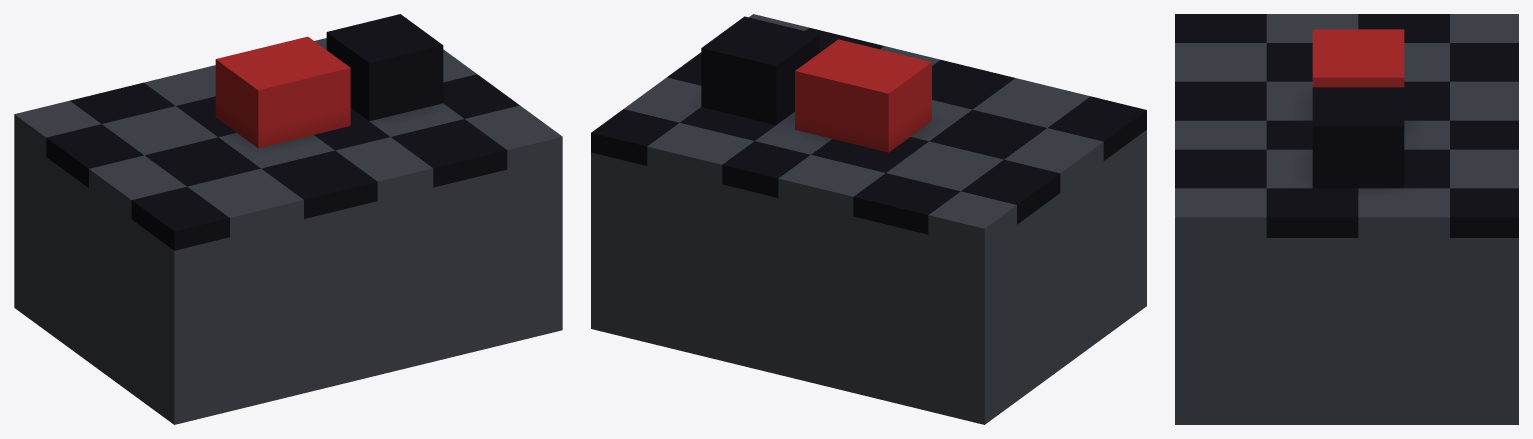
Rendered from battery_m.glb.
The picture shows the model from 3 angles, left to right: view 1: azimuth 30°, elevation 25°; view 2: azimuth 150°, elevation 25°; view 3: azimuth 270°, elevation 25°; orthographic projection. The views are drawn at different scales.
Parts seen in each view (by area): view 1: battery_m; view 2: battery_m; view 3: battery_m.
Boxes of the visible parts, <box> form: battery_m: <box>14,14,562,424</box>; battery_m: <box>591,14,1146,424</box>; battery_m: <box>1175,14,1518,424</box>.
Bounding box in the file's own units: 0.3281 × 0.2031 × 0.2344.
